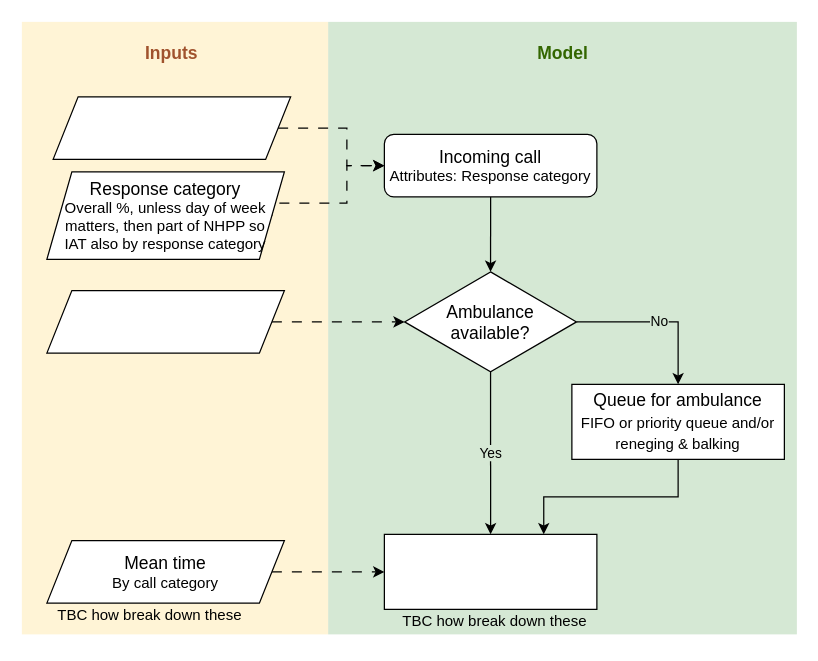
The diagram is 818 pixels wide and 661 high, and some of its shapes have lost their labels. Here are the shapes that lost their labels. From the top down, the centre of each, then its label:
point 171,127: Mean inter-arrival time By day of week
point 165,321: Number of ambulances
point 490,571: Time with ambulance (dispatch to release)
